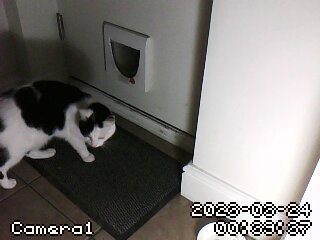bad: (3, 81, 121, 198)
